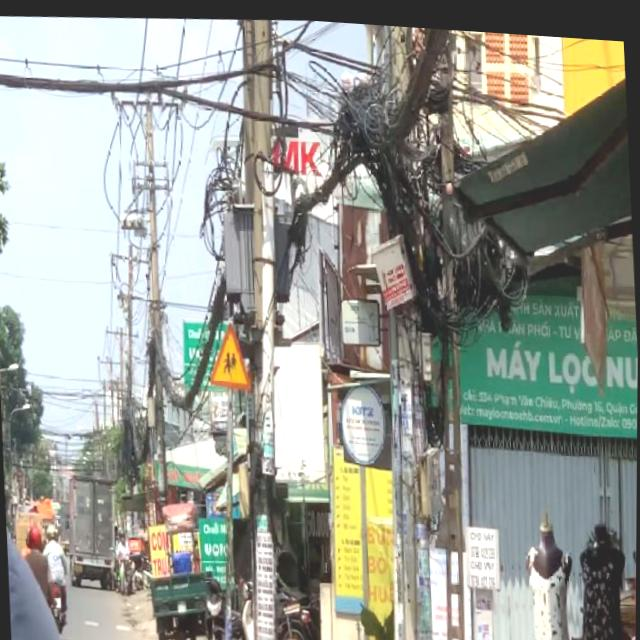Tre em: (206, 316, 253, 390)
